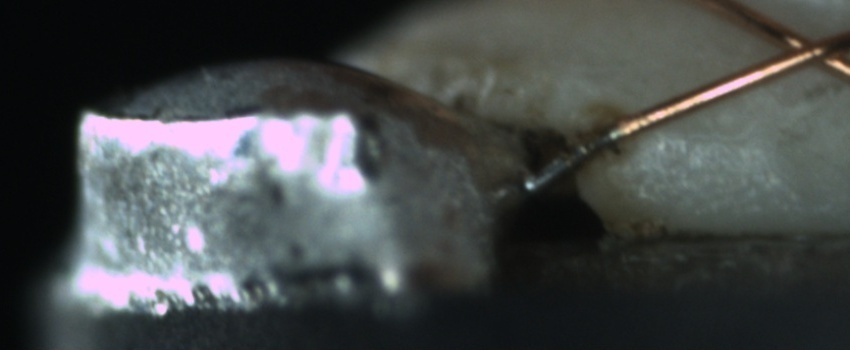CL: (750, 13, 850, 83)
DL: (642, 109, 771, 165)
TS: (517, 124, 622, 201)
